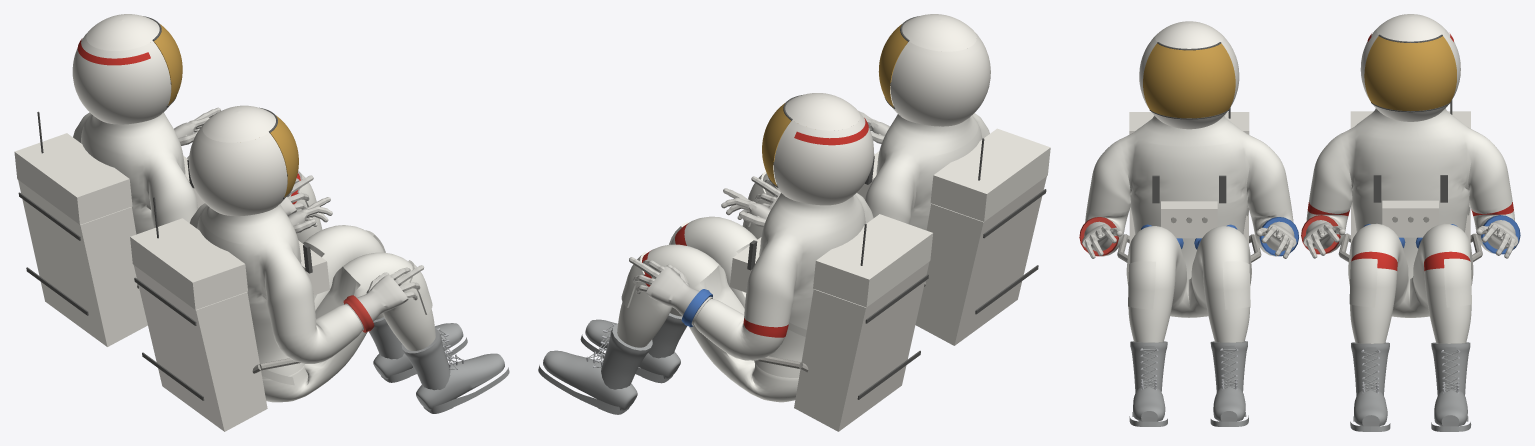
File: riders.lod1.glb
3 views of the same model, side by side, from view 1: azimuth 30°, elevation 25°; view 2: azimuth 150°, elevation 25°; view 3: azimuth 270°, elevation 25° (orthographic). The views are drawn at different scales.
Visible parts, largest first — view 1: Schmitt_Helmet_OuterThermalCover, Cernan_Helmet_OuterThermalCover, Schmitt_Arms_Sleeves, Cernan_Legs_Stowage, Schmitt_Boots_Laces, Schmitt_Gloves_PressureGloves, Cernan_Gloves_PressureGloves, Schmitt_Helmet_VisorRim, Cernan_Helmet_GoldSunVisor, Schmitt_Helmet_GoldSunVisor, Cernan_Helmet_VisorRim, Cernan_Helmet_CommanderBand; view 2: Cernan_Helmet_OuterThermalCover, Schmitt_Helmet_OuterThermalCover, Cernan_Legs_Stowage, Cernan_Legs_Trousers, Schmitt_Arms_Sleeves, Cernan_Boots_Laces, Cernan_Arms_Sleeves, Cernan_Gloves_PressureGloves, Cernan_Helmet_VisorRim, Cernan_Helmet_GoldSunVisor, Schmitt_Helmet_GoldSunVisor, Schmitt_Helmet_VisorRim (+2 smaller); view 3: Schmitt_Arms_Sleeves, Cernan_Legs_Stowage, Cernan_Legs_Trousers, Schmitt_Helmet_GoldSunVisor, Cernan_Helmet_GoldSunVisor, Cernan_Boots_Laces, Schmitt_Helmet_OuterThermalCover, Schmitt_Boots_Laces, Cernan_Helmet_OuterThermalCover, Cernan_Gloves_PressureGloves, Schmitt_Gloves_PressureGloves, Cernan_Arms_Sleeves (+7 smaller).
Part boxes in pixels (left/top/right/bottom): Schmitt_Helmet_OuterThermalCover: left=130, top=105, right=329, bottom=431; Cernan_Helmet_OuterThermalCover: left=14, top=14, right=204, bottom=346; Schmitt_Arms_Sleeves: left=190, top=203, right=435, bottom=402; Cernan_Legs_Stowage: left=73, top=112, right=319, bottom=234; Schmitt_Boots_Laces: left=368, top=317, right=509, bottom=413; Schmitt_Gloves_PressureGloves: left=288, top=197, right=423, bottom=330; Cernan_Gloves_PressureGloves: left=174, top=107, right=313, bottom=215; Schmitt_Helmet_VisorRim: left=134, top=107, right=312, bottom=400; Cernan_Helmet_GoldSunVisor: left=154, top=24, right=182, bottom=105; Schmitt_Helmet_GoldSunVisor: left=270, top=115, right=298, bottom=197; Cernan_Helmet_VisorRim: left=18, top=16, right=194, bottom=315; Cernan_Helmet_CommanderBand: left=77, top=38, right=150, bottom=65; Cernan_Helmet_OuterThermalCover: left=729, top=93, right=933, bottom=431; Schmitt_Helmet_OuterThermalCover: left=857, top=14, right=1050, bottom=345; Cernan_Legs_Stowage: left=621, top=193, right=873, bottom=377; Cernan_Legs_Trousers: left=617, top=216, right=798, bottom=402; Schmitt_Arms_Sleeves: left=742, top=113, right=989, bottom=239; Cernan_Boots_Laces: left=538, top=313, right=687, bottom=414; Cernan_Arms_Sleeves: left=694, top=299, right=789, bottom=360; Cernan_Gloves_PressureGloves: left=629, top=188, right=770, bottom=325; Cernan_Helmet_VisorRim: left=747, top=95, right=928, bottom=399; Cernan_Helmet_GoldSunVisor: left=762, top=102, right=791, bottom=185; Schmitt_Helmet_GoldSunVisor: left=878, top=24, right=907, bottom=107; Schmitt_Helmet_VisorRim: left=864, top=16, right=1046, bottom=314; Schmitt_Arms_Sleeves: left=1085, top=115, right=1293, bottom=342; Cernan_Legs_Stowage: left=1309, top=108, right=1511, bottom=307; Cernan_Legs_Trousers: left=1348, top=223, right=1473, bottom=343; Schmitt_Helmet_GoldSunVisor: left=1143, top=43, right=1235, bottom=118; Cernan_Helmet_GoldSunVisor: left=1364, top=36, right=1456, bottom=111; Cernan_Boots_Laces: left=1350, top=342, right=1471, bottom=431; Schmitt_Helmet_OuterThermalCover: left=1129, top=21, right=1249, bottom=244; Schmitt_Boots_Laces: left=1129, top=341, right=1248, bottom=426; Cernan_Helmet_OuterThermalCover: left=1350, top=14, right=1470, bottom=243; Cernan_Gloves_PressureGloves: left=1303, top=220, right=1518, bottom=258; Schmitt_Gloves_PressureGloves: left=1082, top=221, right=1296, bottom=258; Cernan_Arms_Sleeves: left=1306, top=197, right=1514, bottom=253.
Bounding box in the file's own units: 1.18 × 1.14 × 1.42.
